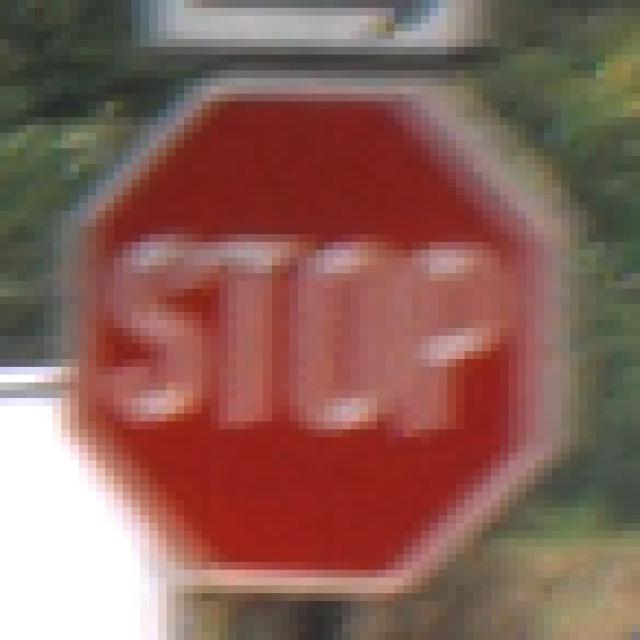STOP: (62, 64, 580, 587)
